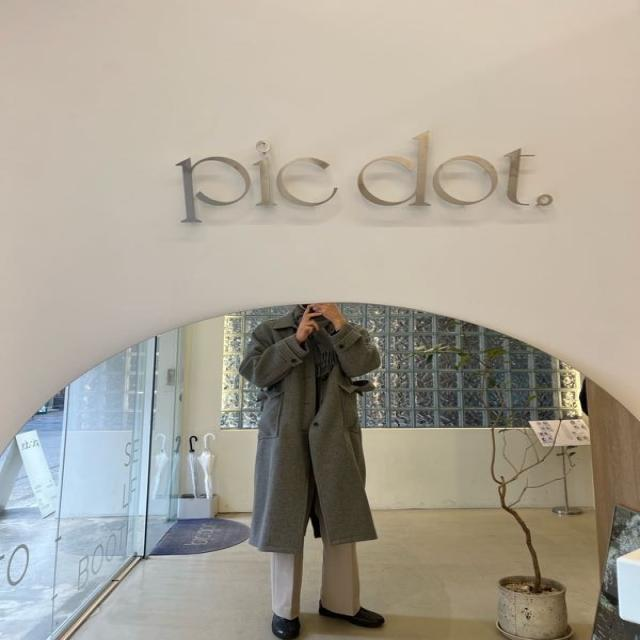coat: (237, 309, 384, 557)
slacks: (268, 535, 361, 619)
